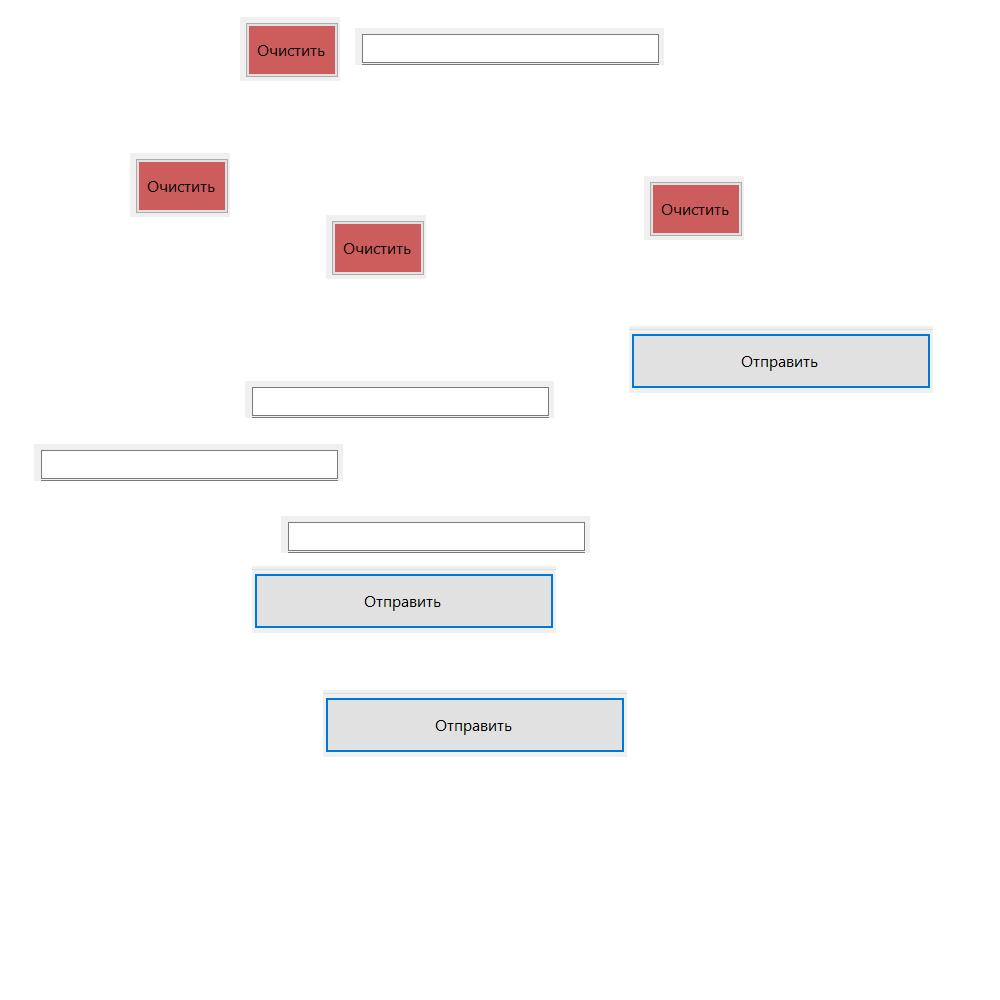Button: (323, 690, 627, 757), (252, 566, 556, 633), (629, 326, 933, 393), (326, 215, 426, 279), (240, 17, 340, 81), (644, 176, 744, 240), (130, 153, 230, 217)
EditText-: (34, 444, 343, 481), (245, 381, 554, 418), (281, 516, 590, 553), (355, 28, 664, 65)
